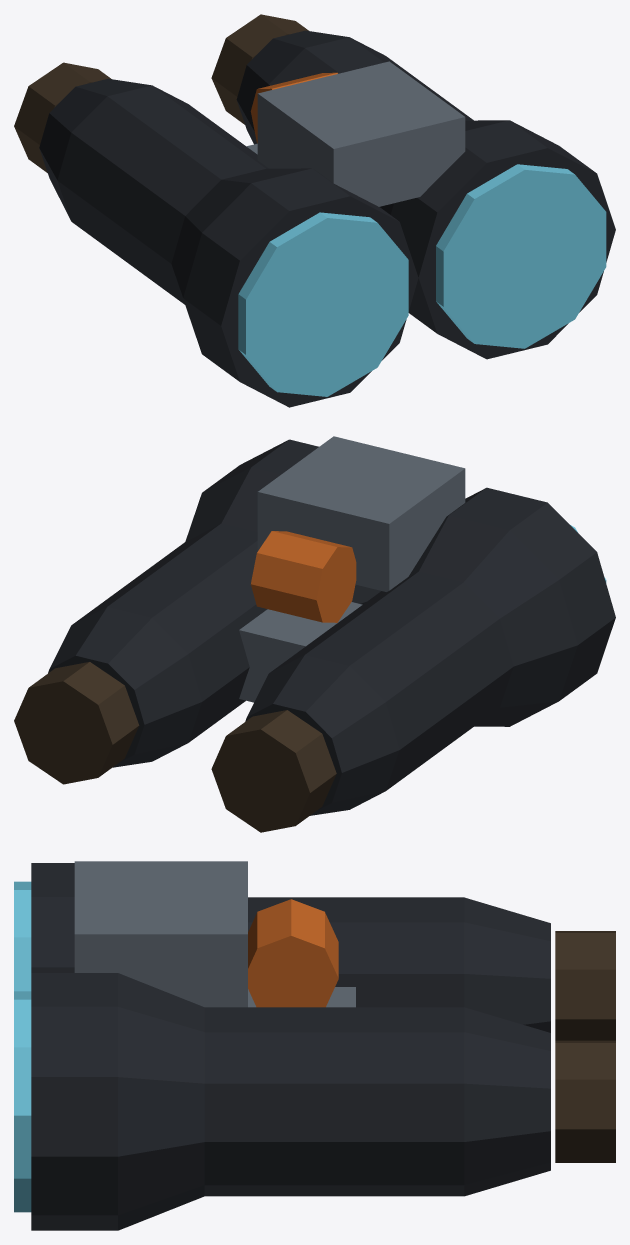
The model's file is macrobinoculars.glb.
The picture shows the model from 3 angles, top to bottom: view 1: azimuth 30°, elevation 25°; view 2: azimuth 150°, elevation 25°; view 3: azimuth 270°, elevation 25°; orthographic projection. The views are drawn at different scales.
Parts seen in each view (by area): view 1: m; view 2: m; view 3: m.
Part boxes in pixels (left/top/right/bottom): m: left=14, top=14, right=615, bottom=407; m: left=14, top=436, right=615, bottom=832; m: left=14, top=861, right=615, bottom=1230.
Bounding box in the file's own units: 0.1209 × 0.067 × 0.14.
